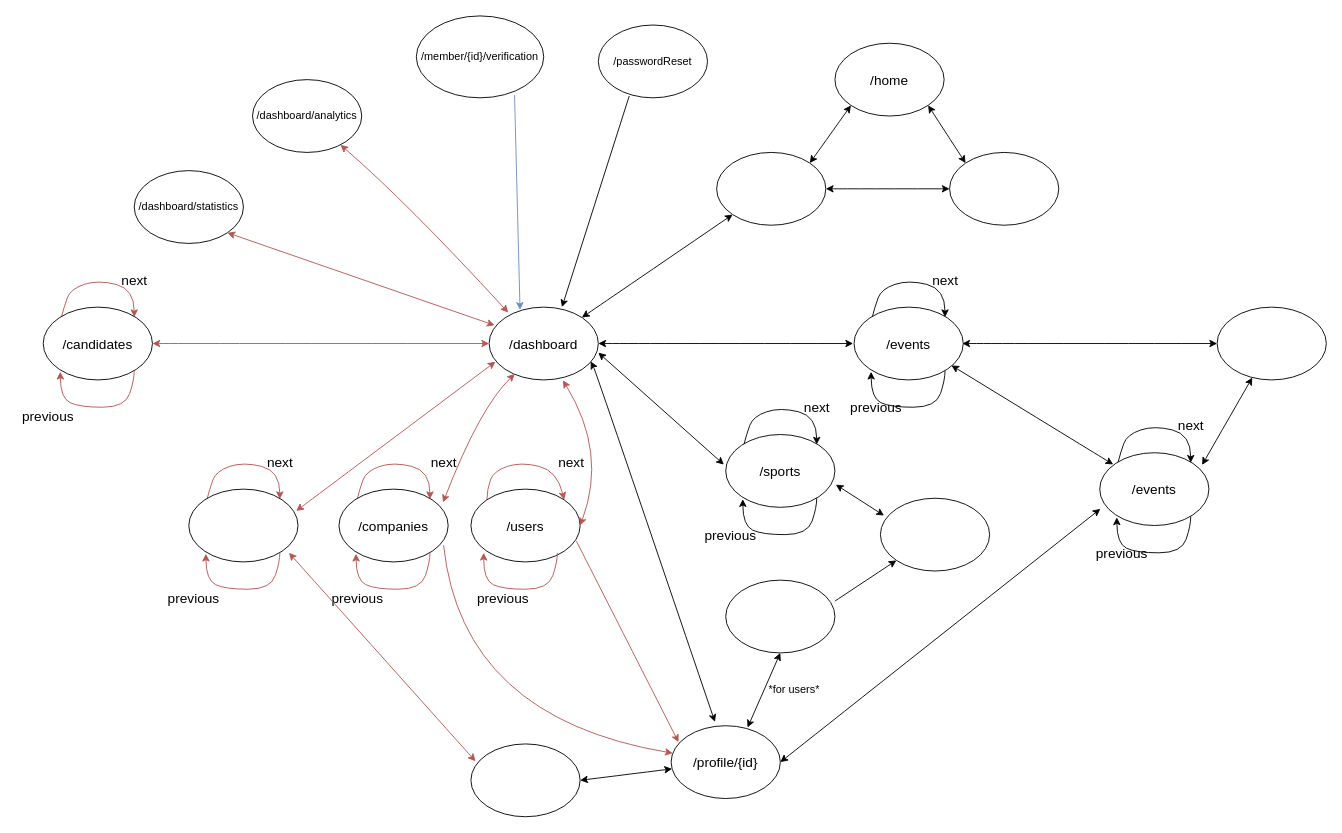
Some shapes in this 1342 by 833 pixel diagram are drawn without their labels. Each missing label, with the box of its shape:
/events/{eid}: (1216, 306, 1326, 380)
/members{id}/quotas: (470, 743, 580, 817)
/quotas: (188, 488, 298, 562)
/sign-in: (716, 152, 826, 225)
/sign-up: (949, 152, 1059, 225)
/sports/{sid}: (880, 497, 990, 571)
/users/{id}/sports/: (725, 579, 835, 653)
